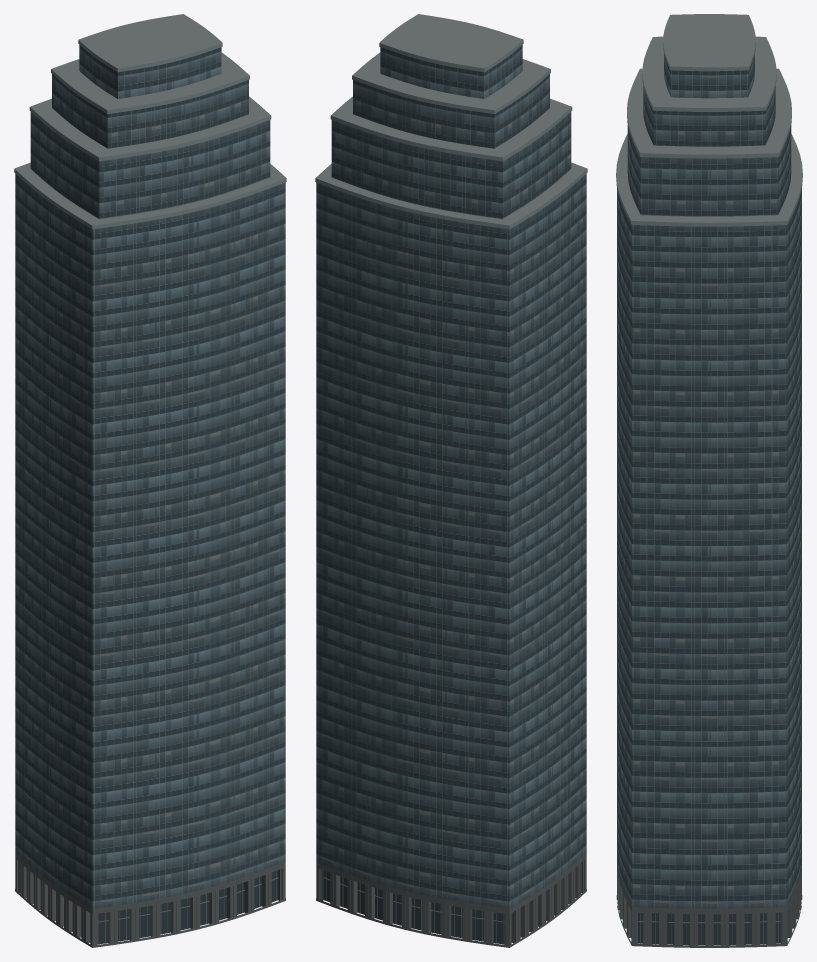
The model's file is municipal_tower.glb.
The picture shows the model from 3 angles, left to right: view 1: azimuth 30°, elevation 25°; view 2: azimuth 150°, elevation 25°; view 3: azimuth 270°, elevation 25°; orthographic projection.
Parts seen in each view (by area): view 1: municipal_tower; view 2: municipal_tower; view 3: municipal_tower.
Part boxes in pixels (<box>): municipal_tower: <box>14,14,286,947</box>; municipal_tower: <box>315,14,587,947</box>; municipal_tower: <box>616,14,802,947</box>.
Bounding box in the file's own units: 54.49 × 220 × 43.4.
Materials: 2 (2 with a texture image).
